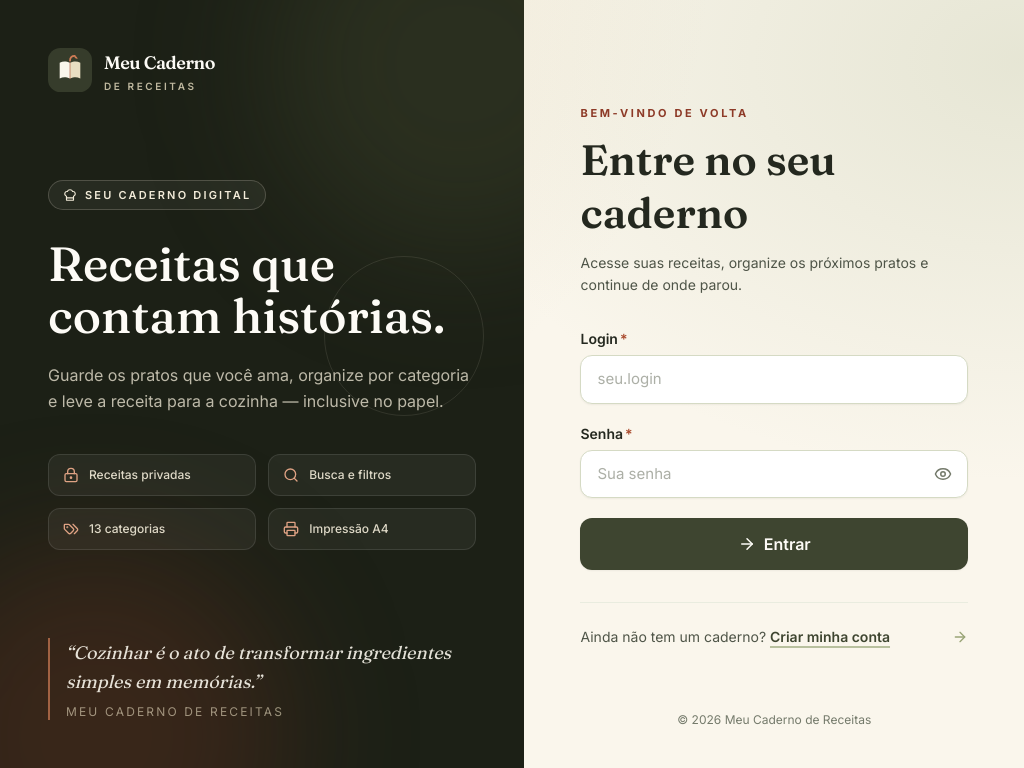
LoginPage › shows the friendly throttling message returned by the API
In the field labelled "Login": (774, 379) [580,355,968,404], type "maria"
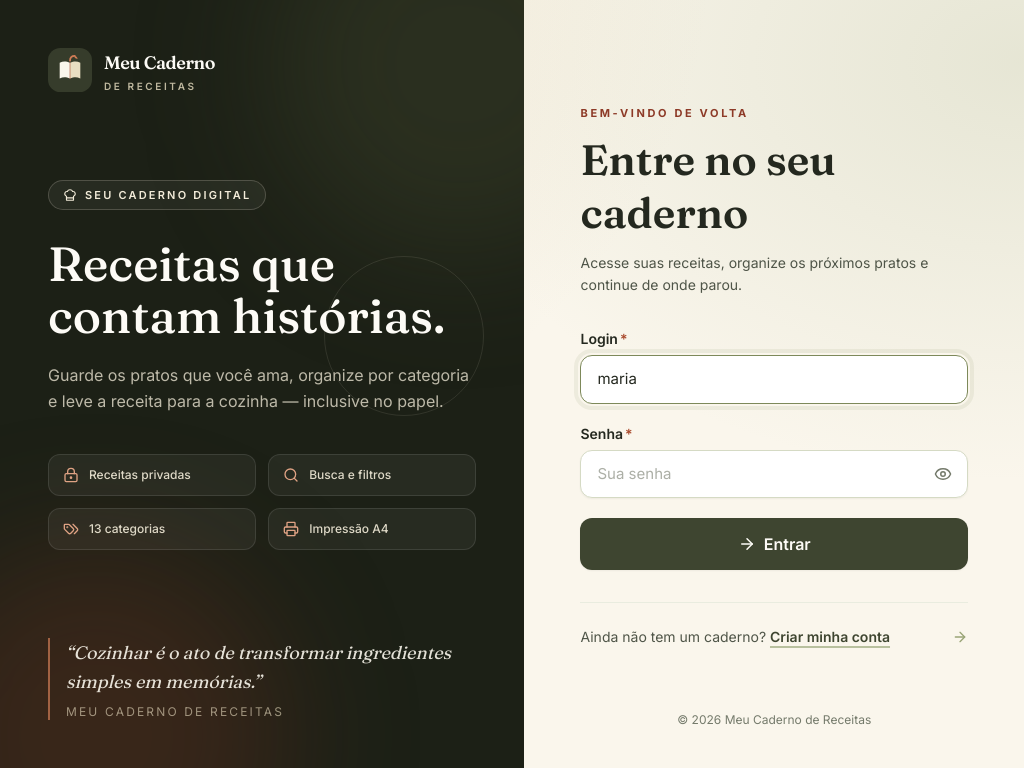
In the password field labelled "Senha": (774, 474) [580,450,968,498], type "Senha@123"
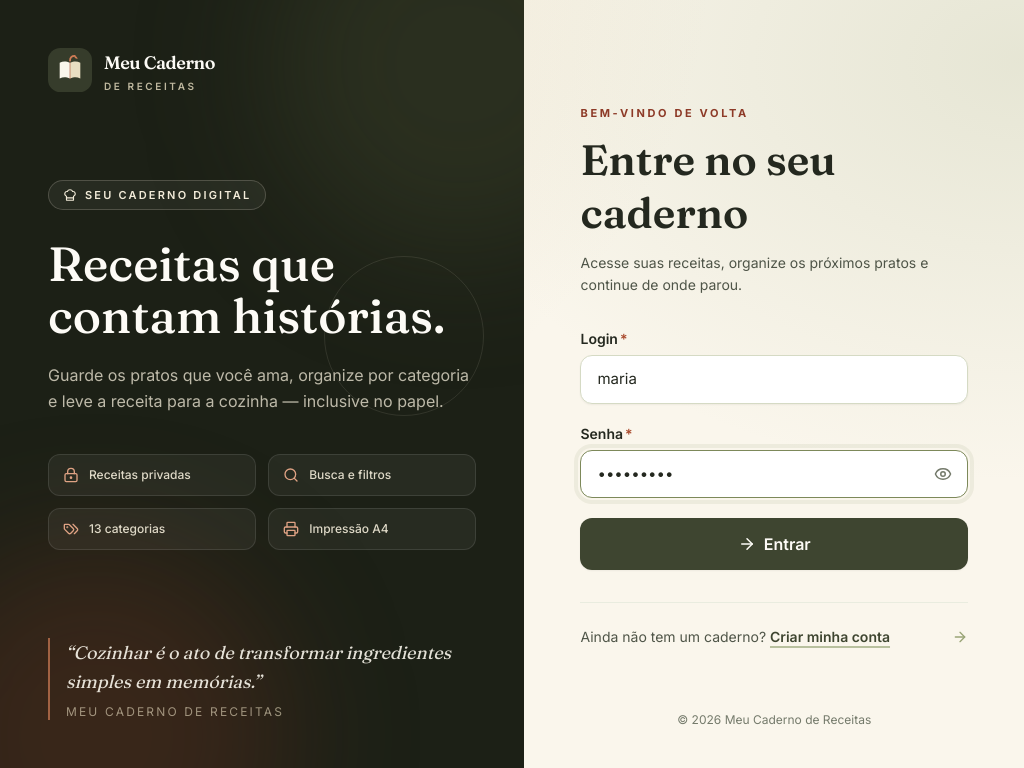
Click the button "Entrar": (774, 544) [580,518,968,570]
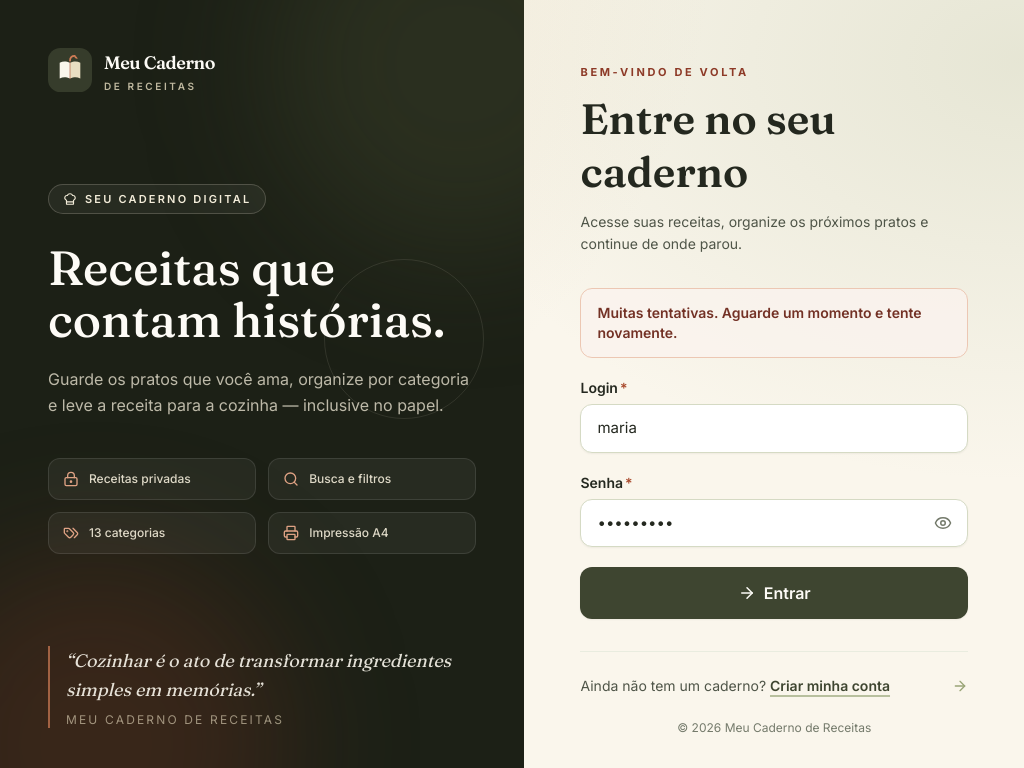
Result: the text "Muitas tentativas. Aguarde um momento e tente novamente." is shown at [598,303,951,343]
